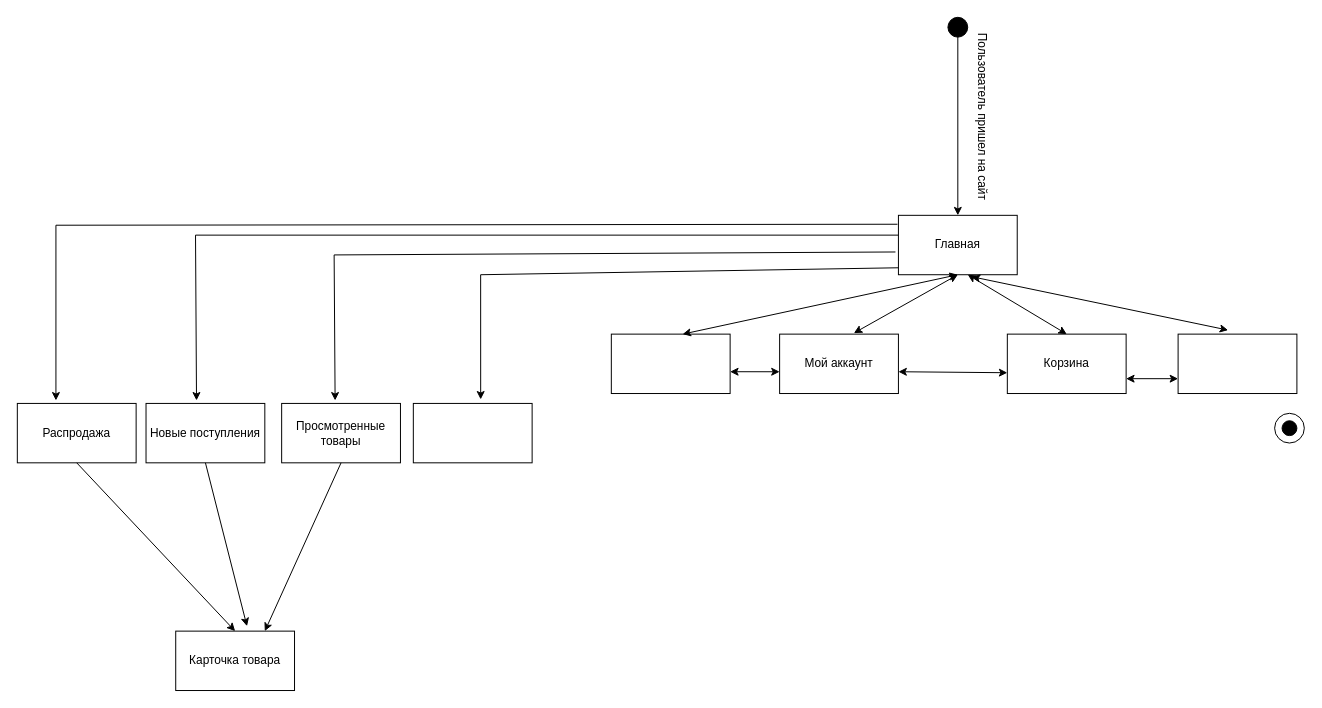
The diagram is 1322 pixels wide and 708 high, and some of its shapes have lost their labels. Here are the shapes that lost their labels. From the top down, the centre of each, then its label:
At (670,363): "Каталог".
At (1237,363): "Оформление заказа".
At (472,432): "Подвал".
